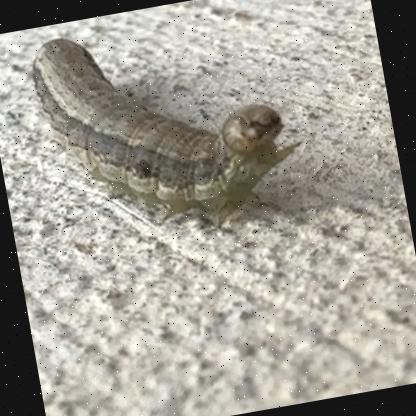Fall Armyworm Larvae: (23, 0, 318, 262)
